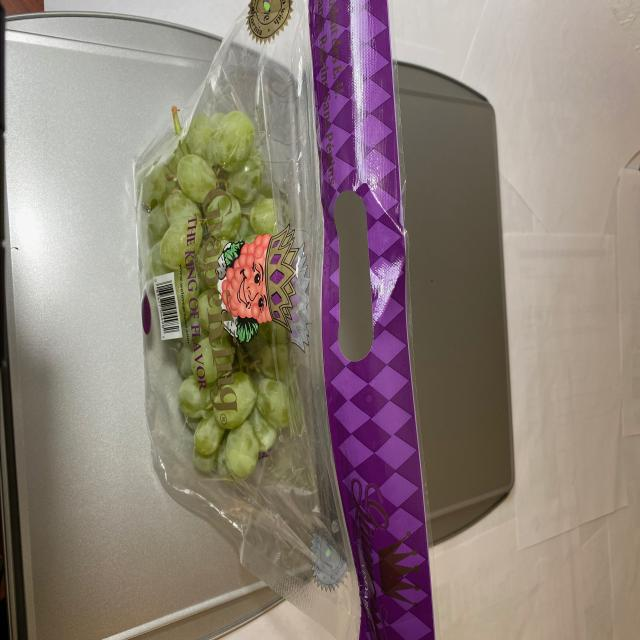grapes: (142, 102, 312, 502)
